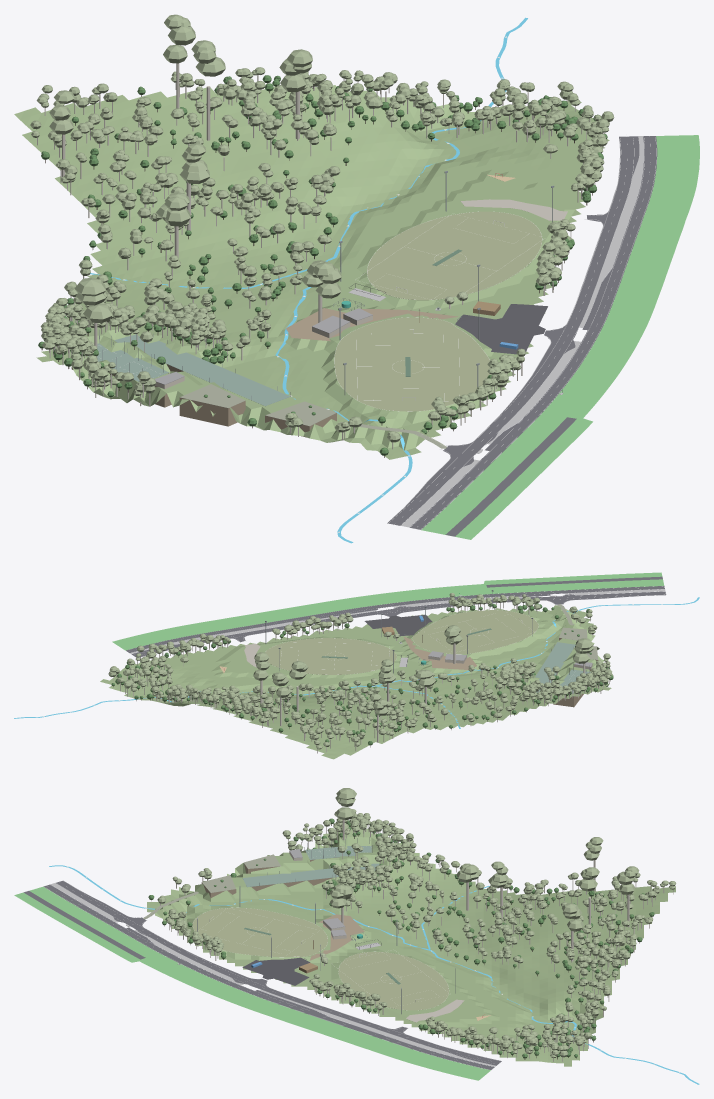
Rendered from KHFR_stage0_winter.glb.
The picture shows the model from 3 angles, top to bottom: view 1: azimuth 30°, elevation 25°; view 2: azimuth 150°, elevation 25°; view 3: azimuth 270°, elevation 25°; orthographic projection. The views are drawn at different scales.
Visible parts, largest first — view 1: Reserve terrain, Bushland forest (euc_can), Road reserve (far verge), Bush planting zones (euc_can), Existing Ground 1 (worn turf), Existing Ground 2 (worn turf), Swansea Rd NE-bound (surveyed both edges), Giant eucalypts (canopies), Swansea Rd SW-bound (2 lanes, smooth), Tennis precinct bush retained (euc_can), Bushland forest (wat_can), Median (separated) (+16 smaller); view 2: Reserve terrain, Bushland forest (euc_can), Road reserve (far verge), Bush planting zones (euc_can), Existing Ground 1 (worn turf), Existing Ground 2 (worn turf), Giant eucalypts (canopies), Swansea Rd SW-bound (2 lanes, smooth), Tennis precinct bush retained (euc_can), Swansea Rd NE-bound (surveyed both edges), Bushland forest (wat_can), Median (separated) (+9 smaller); view 3: Reserve terrain, Bushland forest (euc_can), Road reserve (far verge), Bush planting zones (euc_can), Existing Ground 1 (worn turf), Existing Ground 2 (worn turf), Swansea Rd NE-bound (surveyed both edges), Tennis precinct bush retained (euc_can), Giant eucalypts (canopies), Swansea Rd SW-bound (2 lanes, smooth), Bushland forest (wat_can), Median (separated) (+11 smaller).
Boxes of the visible parts, box(x1,y1,x2,y2) form: Reserve terrain: box(14, 85, 609, 459); Bushland forest (euc_can): box(30, 71, 400, 442); Road reserve (far verge): box(421, 135, 699, 539); Bush planting zones (euc_can): box(216, 67, 614, 416); Existing Ground 1 (worn turf): box(334, 317, 490, 411); Existing Ground 2 (worn turf): box(367, 211, 541, 300); Swansea Rd NE-bound (surveyed both edges): box(387, 136, 639, 525); Giant eucalypts (canopies): box(49, 14, 312, 323); Swansea Rd SW-bound (2 lanes, smooth): box(409, 136, 657, 529); Tennis precinct bush retained (euc_can): box(40, 296, 233, 387); Bushland forest (wat_can): box(41, 83, 388, 455); Median (separated): box(400, 136, 644, 527); Reserve terrain: box(100, 605, 611, 759); Bushland forest (euc_can): box(198, 606, 611, 749); Road reserve (far verge): box(112, 572, 664, 650); Bush planting zones (euc_can): box(108, 593, 540, 716); Existing Ground 1 (worn turf): box(412, 610, 538, 653); Existing Ground 2 (worn turf): box(265, 638, 396, 674); Giant eucalypts (canopies): box(253, 638, 593, 715); Swansea Rd SW-bound (2 lanes, smooth): box(126, 586, 664, 652); Tennis precinct bush retained (euc_can): box(495, 661, 613, 703); Swansea Rd NE-bound (surveyed both edges): box(131, 591, 666, 657); Bushland forest (wat_can): box(230, 609, 603, 745); Median (separated): box(130, 589, 665, 653); Reserve terrain: box(147, 824, 675, 1066); Bushland forest (euc_can): box(157, 817, 676, 980); Road reserve (far verge): box(14, 886, 490, 1080); Bush planting zones (euc_can): box(166, 909, 637, 1057); Existing Ground 1 (worn turf): box(192, 907, 327, 957); Existing Ground 2 (worn turf): box(338, 952, 448, 1010); Swansea Rd NE-bound (surveyed both edges): box(56, 880, 501, 1065); Tennis precinct bush retained (euc_can): box(295, 809, 416, 888); Giant eucalypts (canopies): box(335, 788, 639, 931); Swansea Rd SW-bound (2 lanes, smooth): box(43, 884, 494, 1069); Bushland forest (wat_can): box(148, 820, 654, 979); Median (separated): box(50, 883, 495, 1066).
Size of the model in its own units: 495 by 86.35 by 599.
